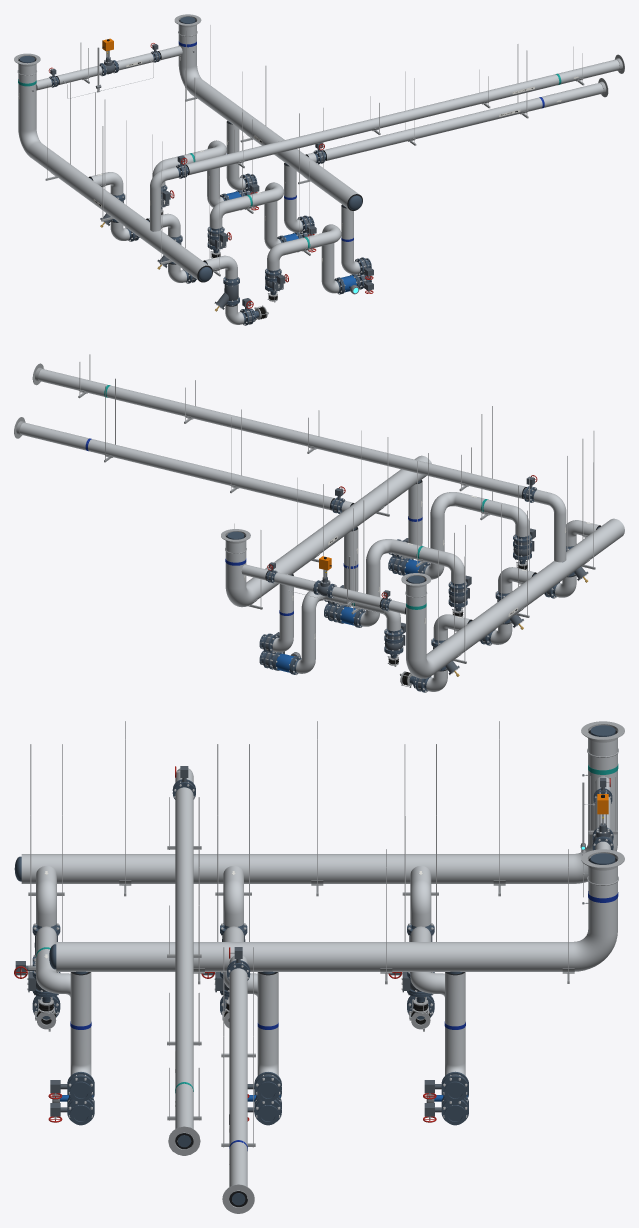
File: chw-loop.glb
The picture shows the model from 3 angles, top to bottom: view 1: azimuth 30°, elevation 25°; view 2: azimuth 150°, elevation 25°; view 3: azimuth 270°, elevation 25°; orthographic projection. The views are drawn at different scales.
Parts seen in each view (by area): view 1: CHWL_PCW_Return, CHWL_ReturnHeader, CHWL_SupplyHeader, CHWL_PCW_Supply, CHWL_Supports, CHWL_CH01_Discharge, CHWL_CH02_Discharge, CHWL_CH03_Discharge, CHWL_Bypass, CHWL_CH01_Outlet, CHWL_CH02_Outlet, CHWL_CH01_Suction (+5 smaller); view 2: CHWL_PCW_Return, CHWL_ReturnHeader, CHWL_SupplyHeader, CHWL_PCW_Supply, CHWL_Supports, CHWL_CH01_Discharge, CHWL_CH02_Discharge, CHWL_CH03_Discharge, CHWL_Bypass, CHWL_CH03_Outlet, CHWL_CH03_Suction, CHWL_CH02_Suction (+6 smaller); view 3: CHWL_SupplyHeader, CHWL_ReturnHeader, CHWL_PCW_Return, CHWL_PCW_Supply, CHWL_Supports, CHWL_CH01_Outlet, CHWL_CH02_Outlet, CHWL_CH03_Outlet, CHWL_CH01_Discharge, CHWL_PCW_Supports, CHWL_CH03_Discharge, CHWL_CH03_Suction (+4 smaller).
Boxes of the visible parts, left/top/right/bottom form: CHWL_PCW_Return: left=150, top=54, right=624, bottom=231; CHWL_ReturnHeader: left=14, top=53, right=212, bottom=282; CHWL_SupplyHeader: left=174, top=14, right=362, bottom=210; CHWL_PCW_Supply: left=305, top=78, right=608, bottom=162; CHWL_Supports: left=17, top=25, right=323, bottom=276; CHWL_CH01_Discharge: left=267, top=224, right=371, bottom=294; CHWL_CH02_Discharge: left=210, top=182, right=310, bottom=252; CHWL_CH03_Discharge: left=152, top=140, right=255, bottom=209; CHWL_Bypass: left=36, top=46, right=182, bottom=90; CHWL_CH01_Outlet: left=341, top=204, right=371, bottom=274; CHWL_CH02_Outlet: left=284, top=162, right=314, bottom=232; CHWL_CH01_Suction: left=203, top=255, right=259, bottom=324; CHWL_PCW_Return: left=32, top=363, right=566, bottom=562; CHWL_ReturnHeader: left=401, top=518, right=624, bottom=678; CHWL_SupplyHeader: left=221, top=455, right=431, bottom=607; CHWL_PCW_Supply: left=14, top=417, right=354, bottom=511; CHWL_Supports: left=225, top=406, right=595, bottom=663; CHWL_CH01_Discharge: left=388, top=492, right=529, bottom=579; CHWL_CH02_Discharge: left=324, top=539, right=464, bottom=626; CHWL_CH03_Discharge: left=259, top=591, right=400, bottom=673; CHWL_Bypass: left=241, top=564, right=405, bottom=614; CHWL_CH03_Outlet: left=259, top=574, right=293, bottom=652; CHWL_CH03_Suction: left=409, top=614, right=472, bottom=691; CHWL_CH02_Suction: left=479, top=567, right=536, bottom=644; CHWL_SupplyHeader: left=49, top=849, right=624, bottom=971; CHWL_ReturnHeader: left=14, top=721, right=624, bottom=883; CHWL_PCW_Return: left=168, top=768, right=200, bottom=1155; CHWL_PCW_Supply: left=222, top=956, right=254, bottom=1213; CHWL_Supports: left=28, top=721, right=618, bottom=984; CHWL_CH01_Outlet: left=70, top=971, right=91, bottom=1101; CHWL_CH02_Outlet: left=257, top=971, right=278, bottom=1101; CHWL_CH03_Outlet: left=444, top=971, right=466, bottom=1101; CHWL_CH01_Discharge: left=36, top=926, right=91, bottom=1125; CHWL_PCW_Supports: left=167, top=797, right=255, bottom=1147; CHWL_CH03_Discharge: left=410, top=926, right=466, bottom=1125; CHWL_CH03_Suction: left=410, top=866, right=431, bottom=1019.
Bounding box in the file's own units: 18.3 × 5.66 × 12.4.
